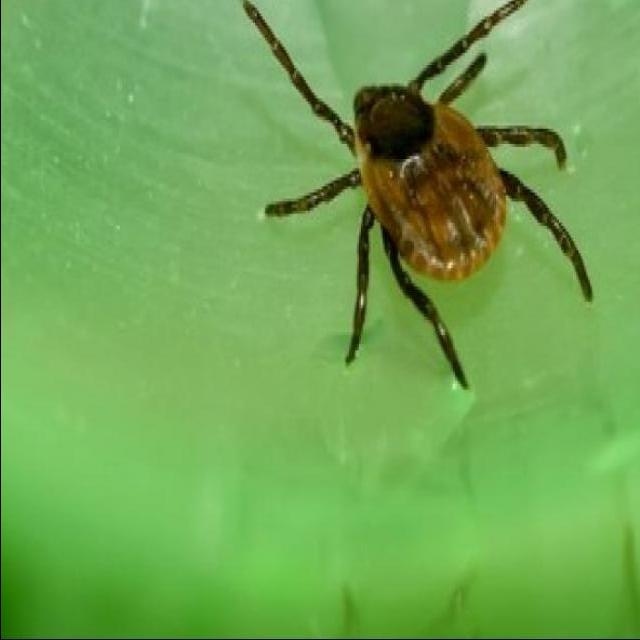Rhipicephalus Sanguineus-F: (240, 0, 591, 394)
